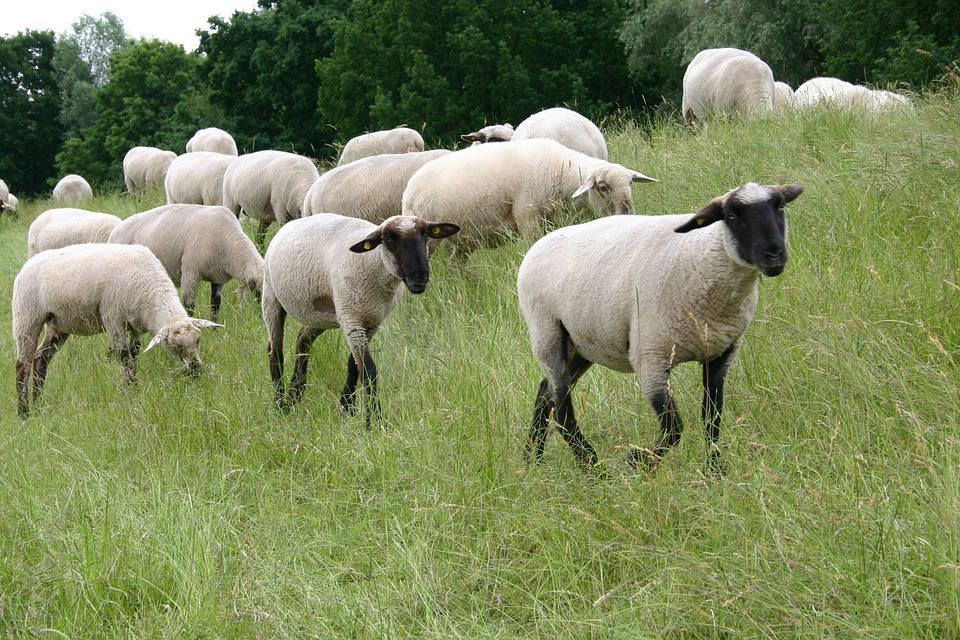sheep: (511, 179, 806, 474), (400, 136, 660, 316), (257, 209, 459, 433), (8, 240, 224, 419), (304, 118, 527, 279), (105, 201, 286, 339), (26, 201, 133, 319), (220, 149, 330, 260), (679, 45, 777, 161), (335, 125, 424, 212), (186, 126, 237, 211), (119, 146, 181, 209), (49, 174, 95, 219)
